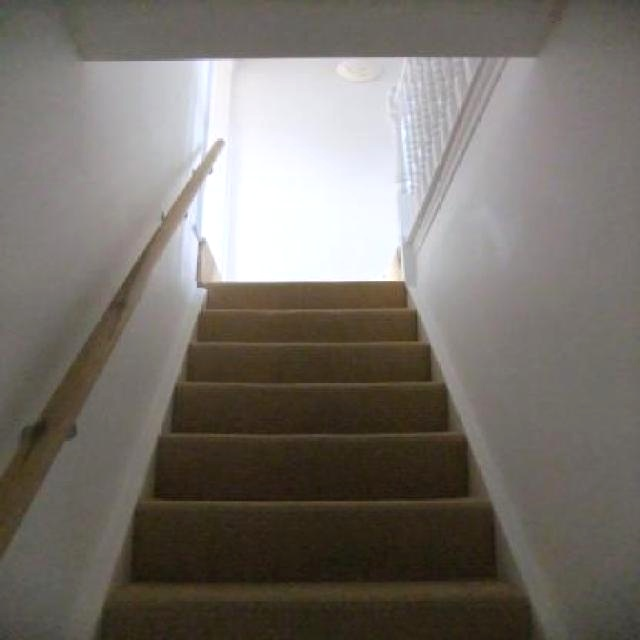stair: (99, 284, 518, 640)
